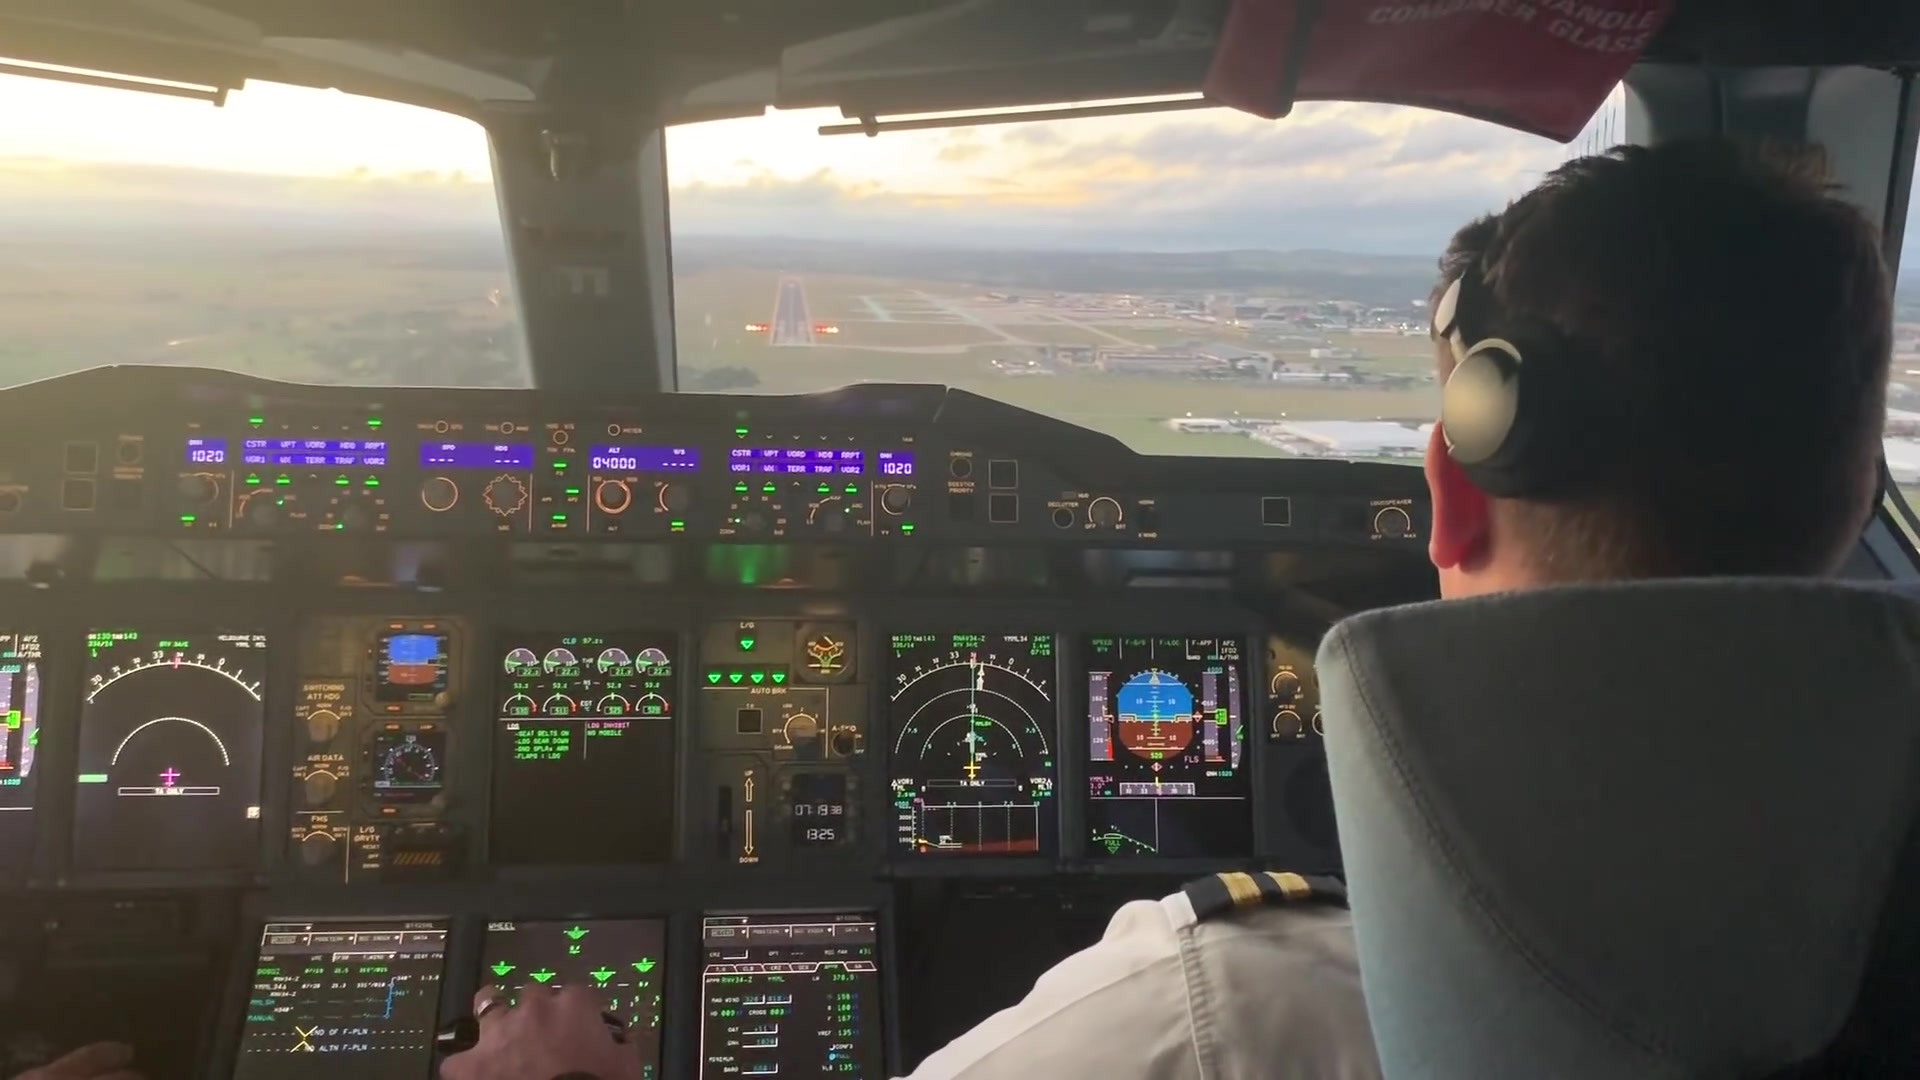runway: (767, 278, 815, 348)
